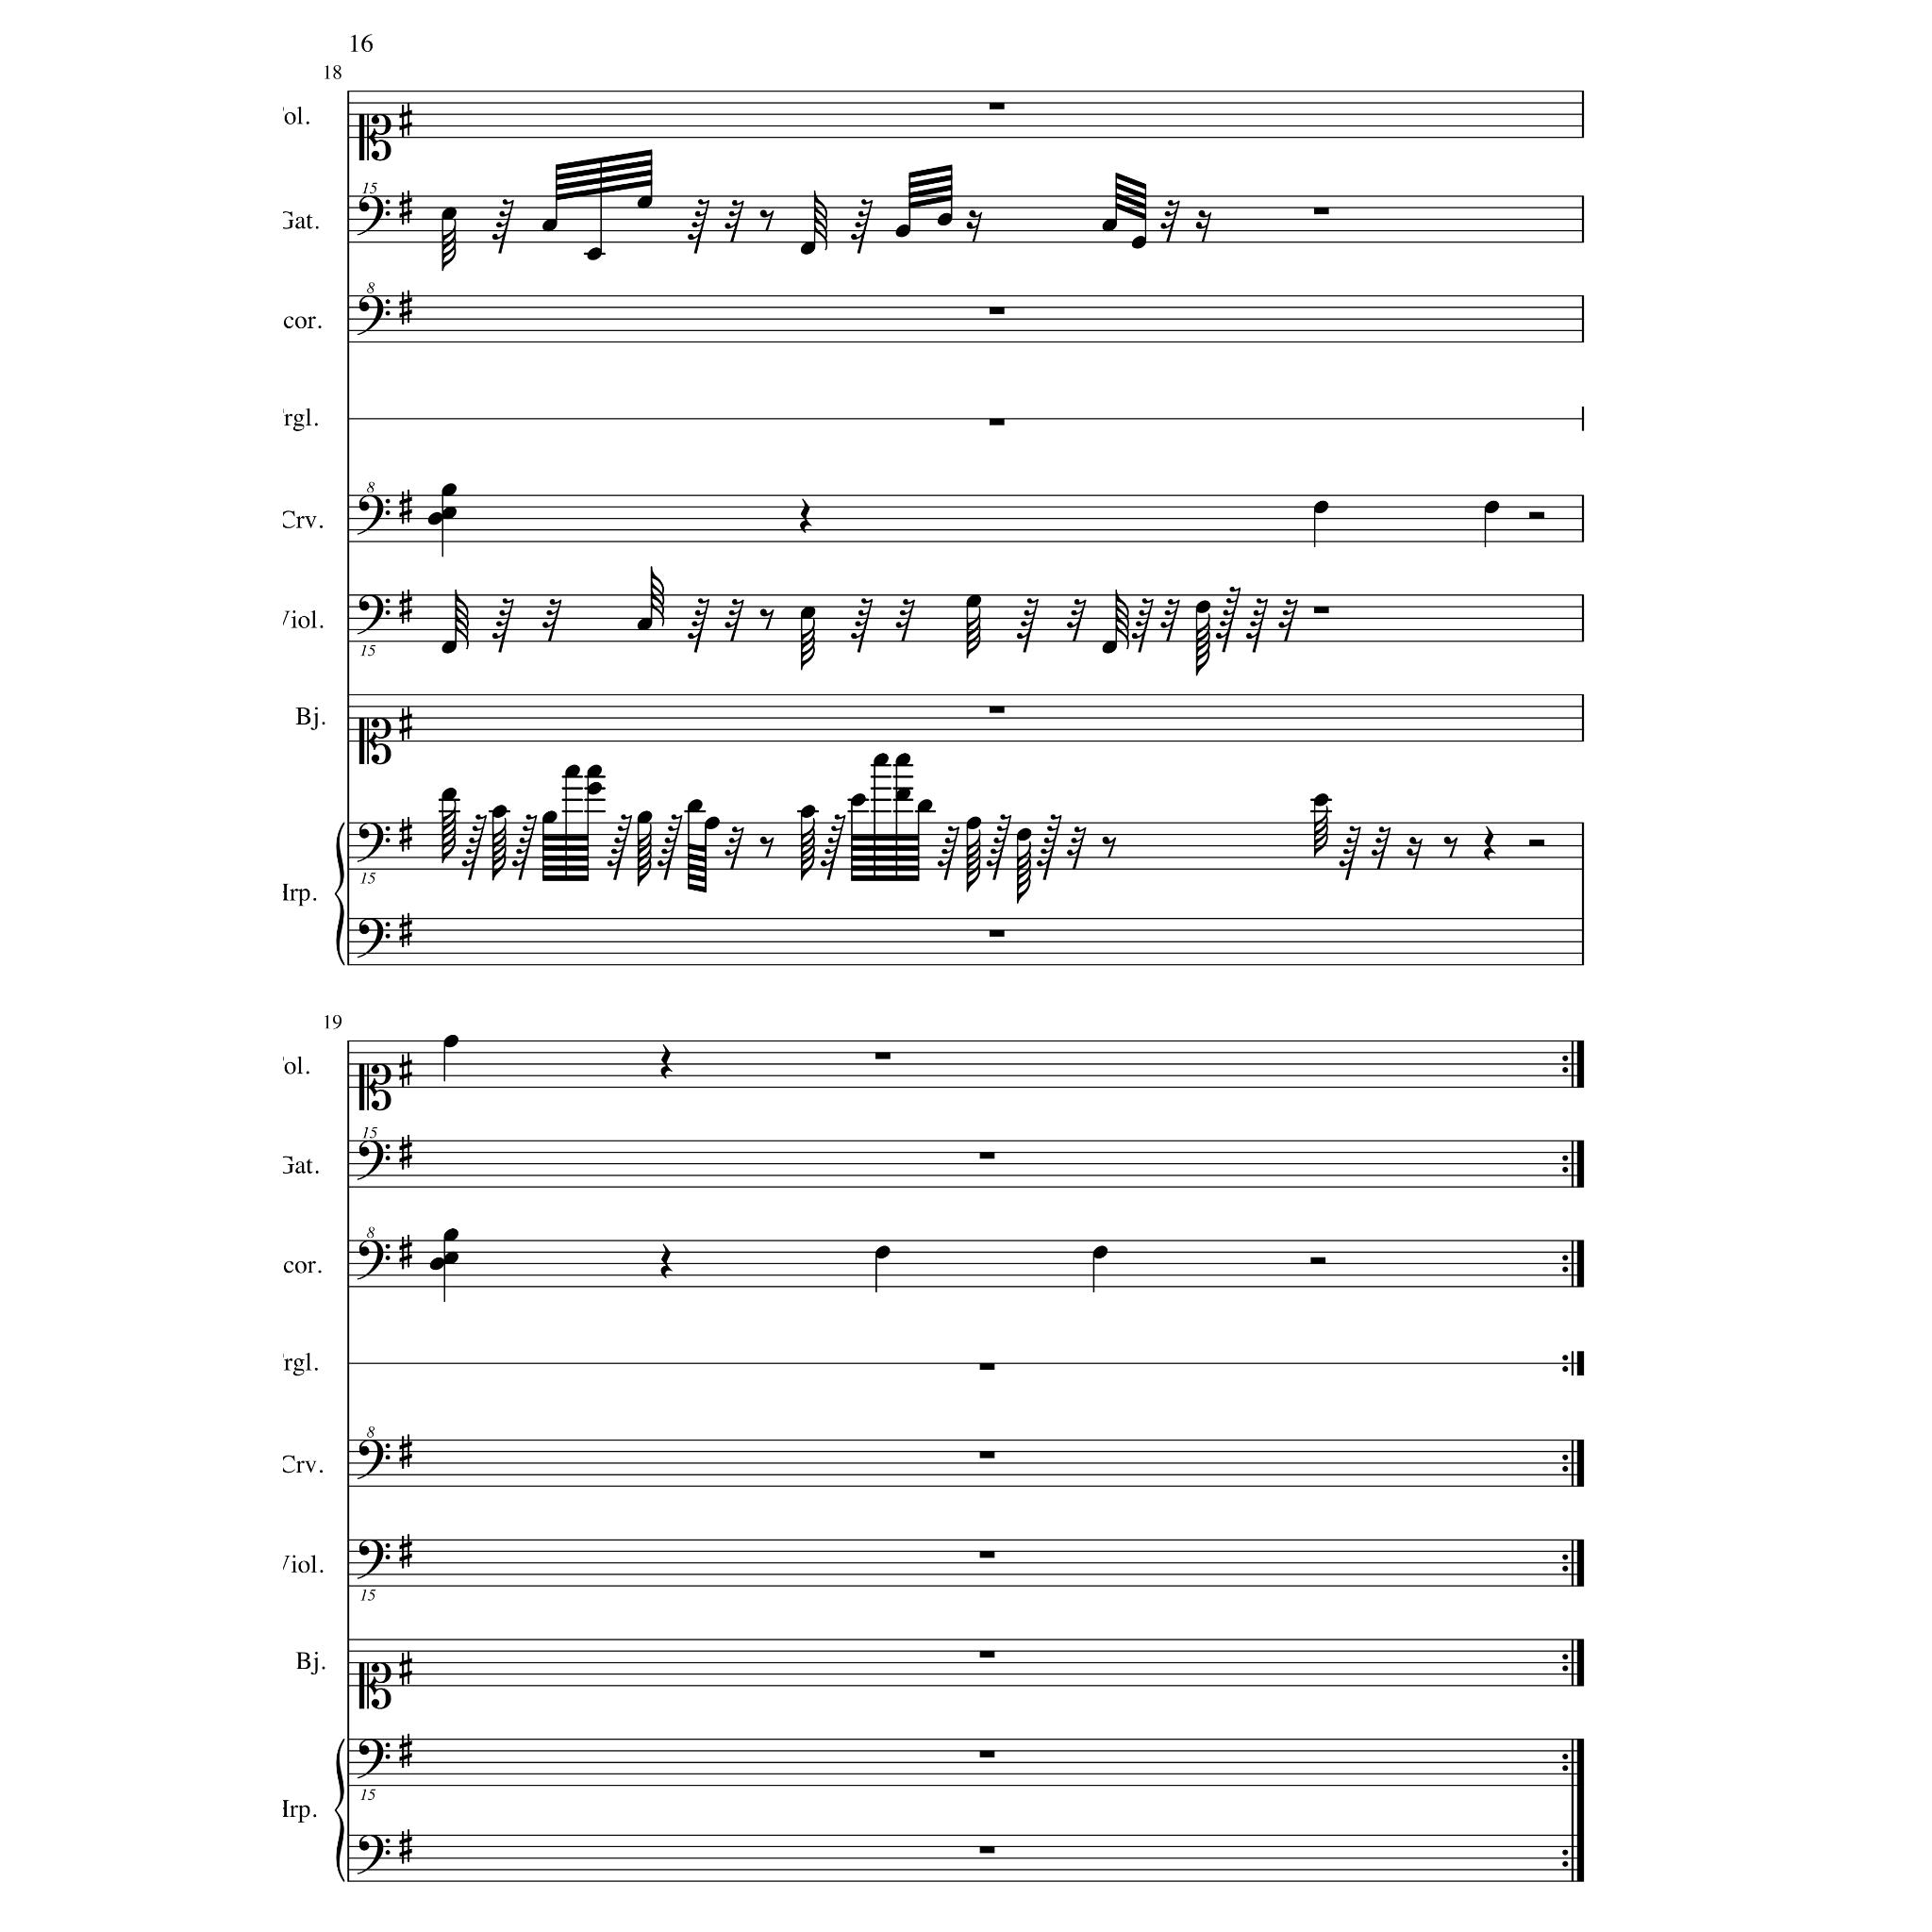brace: (334, 1737, 345, 1882), (334, 823, 345, 966)
fClef: (357, 196, 391, 237), (357, 823, 391, 863), (357, 918, 391, 959), (357, 295, 391, 336), (357, 495, 391, 536), (357, 594, 391, 635), (357, 1139, 391, 1180), (357, 1240, 391, 1281), (357, 1739, 391, 1780), (357, 1835, 391, 1875), (357, 1438, 391, 1479), (357, 1539, 391, 1580)
flag128thDown: (1017, 840, 1031, 904), (966, 828, 980, 892), (1196, 612, 1210, 676), (442, 800, 456, 863), (492, 817, 506, 881), (800, 817, 814, 881), (637, 823, 651, 886)
flag64thDown: (966, 607, 980, 660), (1313, 805, 1327, 858), (442, 219, 456, 272), (800, 617, 814, 671)
flag64thUp: (455, 589, 469, 649), (814, 191, 828, 251), (651, 566, 663, 628), (1116, 589, 1129, 649)
noteheadBlack: (872, 752, 890, 766), (1483, 501, 1500, 515), (1016, 828, 1031, 842), (1131, 235, 1146, 249), (1102, 640, 1118, 655), (895, 787, 911, 801), (895, 752, 911, 766), (849, 793, 865, 807), (966, 594, 982, 609), (1313, 501, 1329, 515), (1313, 793, 1329, 807), (564, 764, 580, 778), (800, 241, 816, 255), (637, 617, 653, 632), (586, 248, 602, 262), (586, 764, 602, 778), (1092, 1246, 1108, 1260), (874, 1246, 890, 1260), (442, 1228, 458, 1242), (686, 800, 704, 812), (442, 787, 456, 801), (442, 207, 456, 221), (442, 506, 456, 520), (442, 640, 456, 655), (1102, 219, 1118, 232), (895, 225, 911, 237), (966, 817, 982, 830), (916, 800, 932, 812), (936, 214, 952, 226), (1194, 602, 1210, 614), (492, 805, 508, 817), (426, 513, 442, 525), (541, 812, 557, 824), (541, 219, 557, 232), (704, 817, 720, 830), (800, 607, 816, 619), (800, 805, 816, 817), (637, 196, 653, 209), (637, 812, 653, 824), (586, 782, 602, 794), (442, 1035, 458, 1047), (428, 1258, 444, 1270), (442, 1253, 458, 1265), (442, 485, 456, 497)
rest16th: (966, 211, 984, 244), (1407, 837, 1424, 870), (1196, 211, 1212, 244)
rest8th: (759, 209, 775, 232), (759, 609, 775, 632), (759, 837, 775, 860), (1102, 837, 1116, 860), (1444, 837, 1458, 860)
restHalf: (1529, 839, 1545, 846), (1529, 513, 1545, 520), (1309, 1256, 1325, 1263)
restQuarter: (1483, 826, 1495, 862), (800, 499, 812, 534), (660, 1044, 672, 1079), (660, 1244, 672, 1279)
restWhole: (1313, 207, 1329, 216), (989, 706, 1005, 715), (978, 1362, 994, 1371), (978, 1845, 994, 1854), (1313, 607, 1329, 614), (989, 103, 1005, 110), (989, 308, 1005, 315), (989, 419, 1005, 426), (989, 931, 1005, 938), (876, 1053, 892, 1060), (978, 1152, 994, 1159), (978, 1451, 994, 1458), (978, 1552, 994, 1559), (978, 1651, 994, 1658), (978, 1752, 994, 1759)
